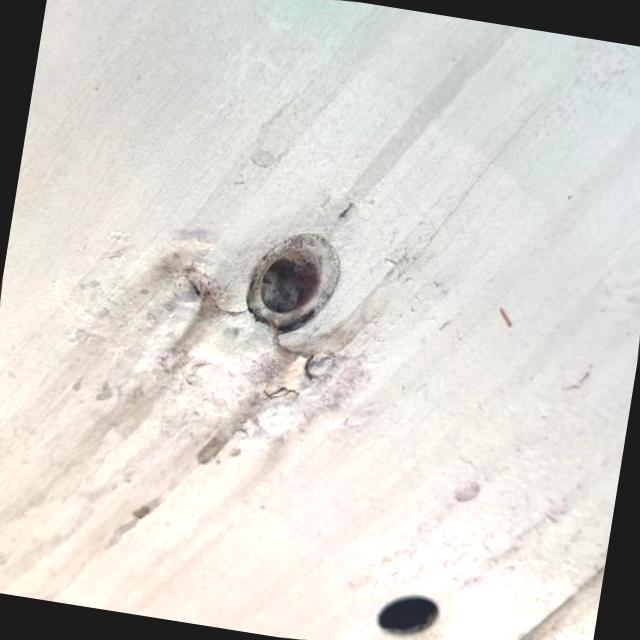Missing Fastener: (242, 224, 345, 339), (355, 569, 462, 640)
